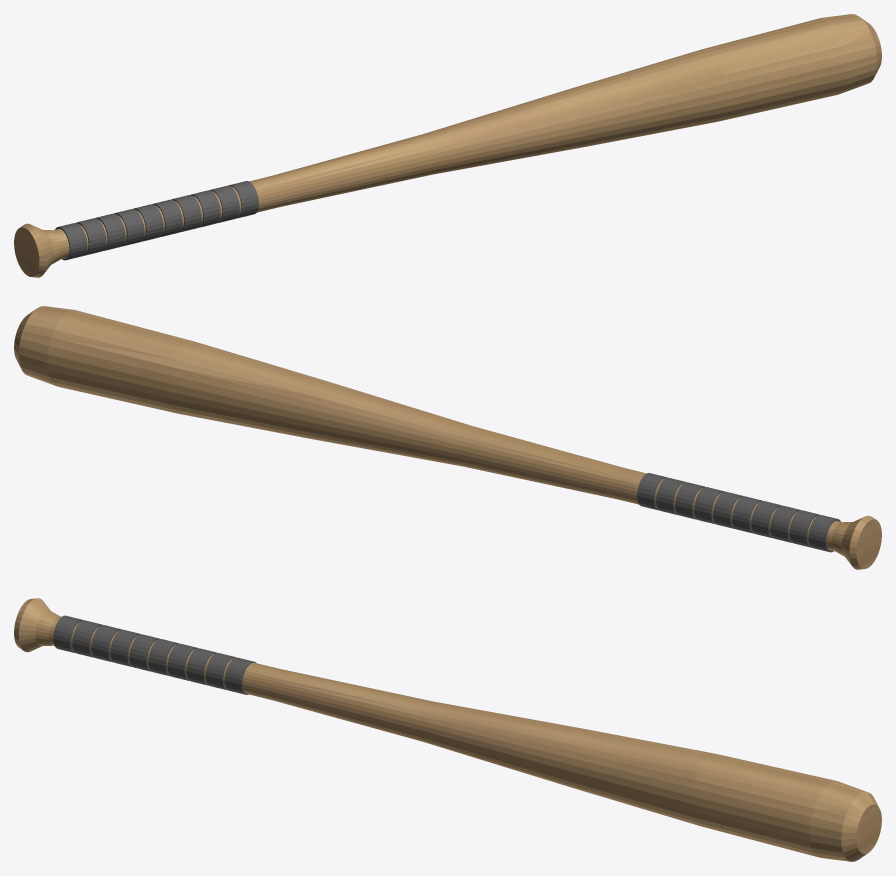
The model's file is taco_madeira.glb.
3 renders of one model, top to bottom at view 1: azimuth 30°, elevation 25°; view 2: azimuth 150°, elevation 25°; view 3: azimuth 330°, elevation 25°, orthographic.
Visible parts, largest first — view 1: taco_madeira_madeira_crua, taco_madeira_fita_preta; view 2: taco_madeira_madeira_crua, taco_madeira_fita_preta; view 3: taco_madeira_madeira_crua, taco_madeira_fita_preta.
Part boxes in pixels (x1=…): taco_madeira_madeira_crua: x1=14, y1=14, x2=881, y2=277; taco_madeira_fita_preta: x1=55, y1=181, x2=258, y2=260; taco_madeira_madeira_crua: x1=14, y1=306, x2=881, y2=569; taco_madeira_fita_preta: x1=637, y1=473, x2=840, y2=552; taco_madeira_madeira_crua: x1=14, y1=598, x2=881, y2=861; taco_madeira_fita_preta: x1=53, y1=615, x2=256, y2=694.
Size of the model in its own units: 0.84 by 0.068 by 0.068.
Materials: 2 (1 with a texture image).
